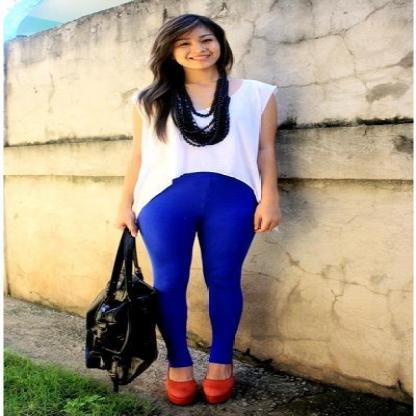bag: (85, 214, 161, 390)
pants: (137, 172, 258, 367)
shirt: (132, 96, 269, 216)
shoe: (166, 376, 232, 408)
